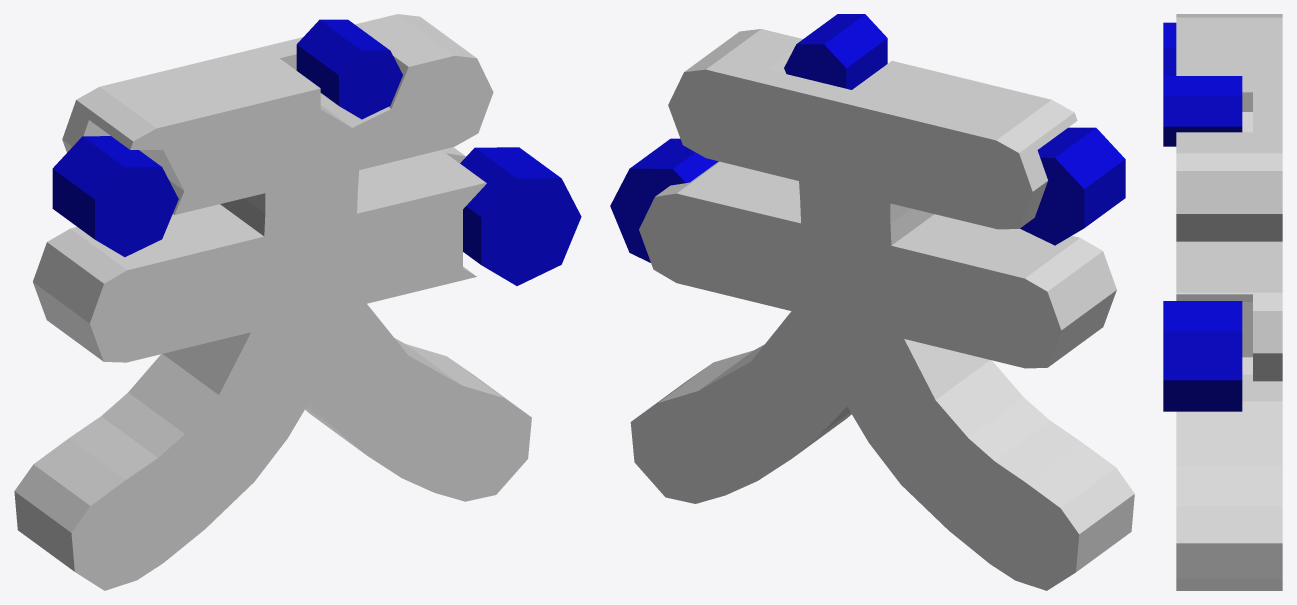
The model's file is Ch_Lite_China_天_01.fbx.
3 views of the same model, side by side, from view 1: azimuth 30°, elevation 25°; view 2: azimuth 150°, elevation 25°; view 3: azimuth 270°, elevation 25° (orthographic). The views are drawn at different scales.
Parts seen in each view (by area): view 1: sphere1; view 2: sphere1; view 3: sphere1.
Boxes of the visible parts, x1,y1,x2,y2 form: sphere1: (14,14,581,590); sphere1: (610,14,1134,590); sphere1: (1163,14,1282,590).
Size of the model in its own units: 1.02 by 0.9362 by 0.2242.
